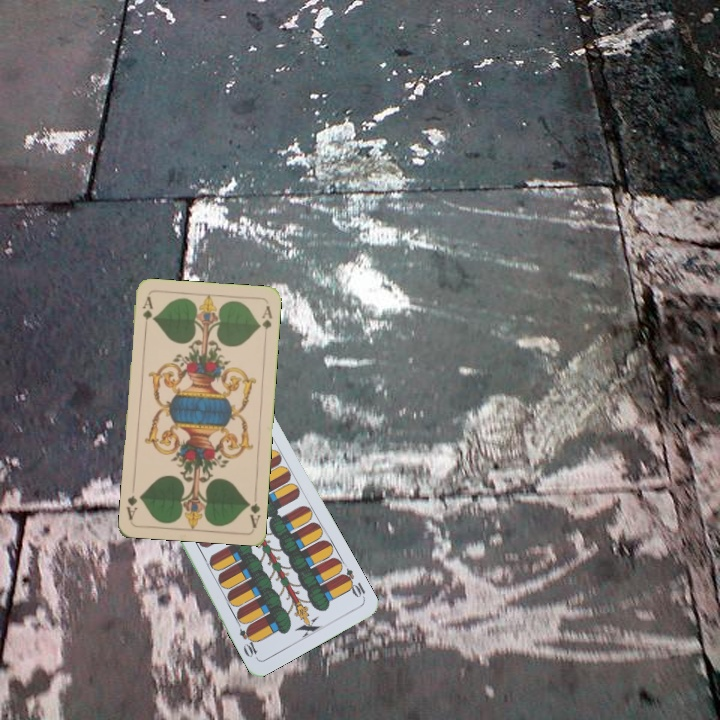E10: (337, 564, 368, 602)
GA: (138, 293, 155, 333), (243, 498, 263, 529)
